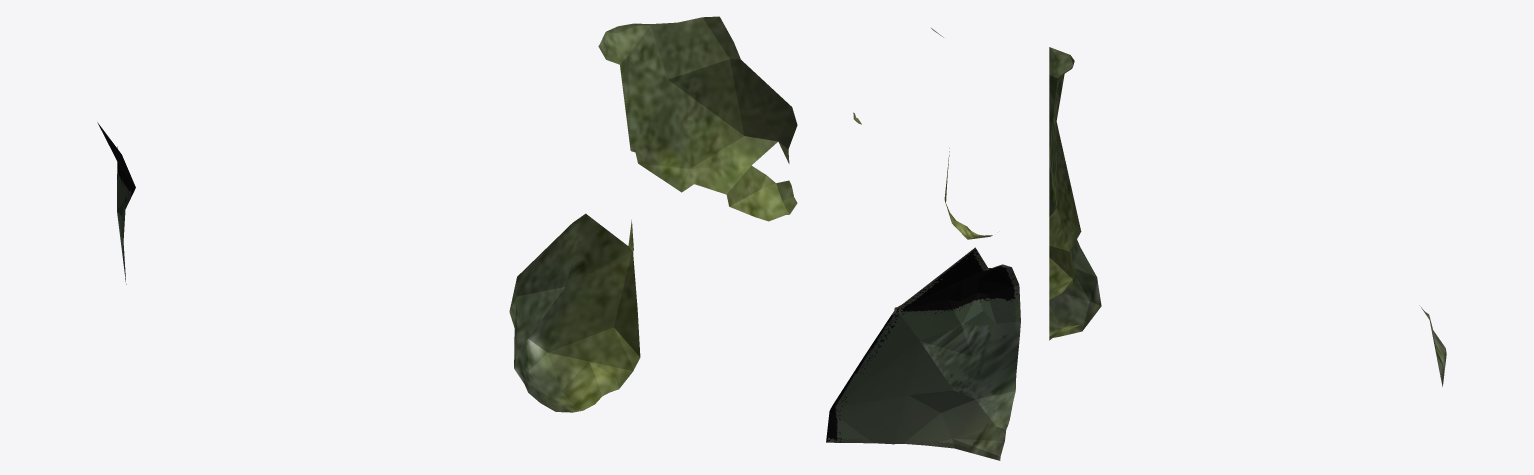
3 renders of one model, left to right at view 1: azimuth 30°, elevation 25°; view 2: azimuth 150°, elevation 25°; view 3: azimuth 270°, elevation 25°, orthographic. The views are drawn at different scales.
Size of the model in its own units: 5.9 by 5.9 by 5.9.
2 materials, 2 textured.
